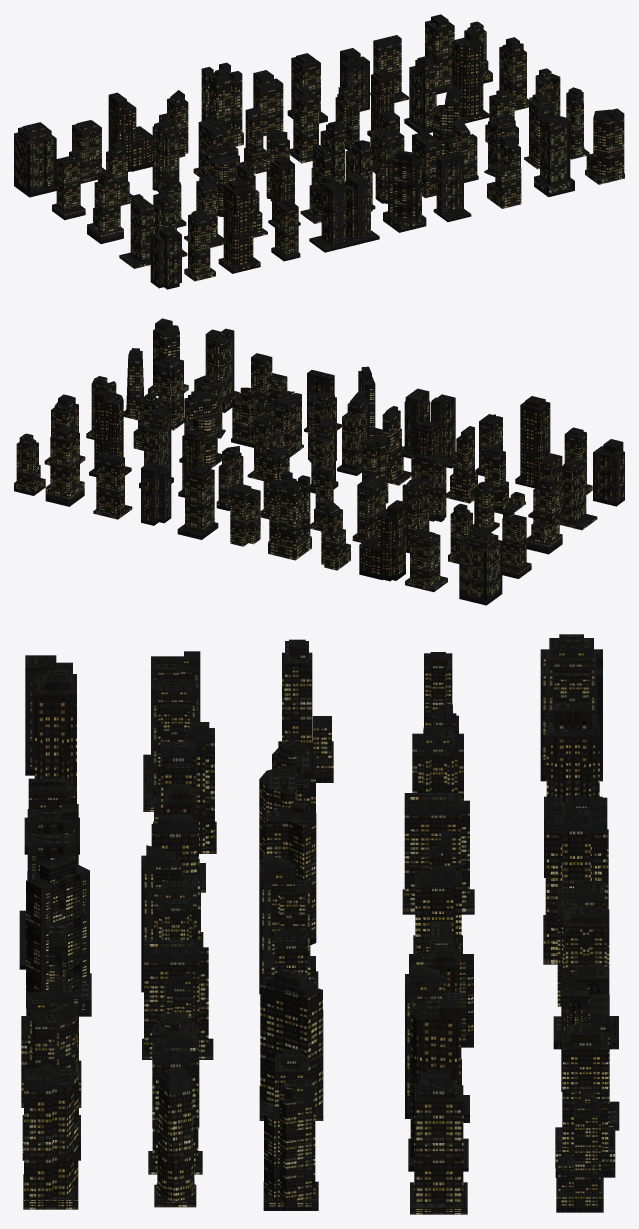
The model's file is Skyscrapers_night.FBX.
3 views of the same model, one above another, from view 1: azimuth 30°, elevation 25°; view 2: azimuth 150°, elevation 25°; view 3: azimuth 270°, elevation 25° (orthographic). The views are drawn at different scales.
Visible parts, largest first — view 1: 21, 19, 27, 22, 39, 25, 50, 1, 26, 40, 49, 30 (+41 smaller); view 2: 39, 27, 40, 21, 1, 19, 29, 28, 30, 50, 17, 16 (+41 smaller); view 3: 26, 22, 51, 36, 38, 39, 44, 29, 1, 27, 12, 40 (+35 smaller).
Boxes of the visible parts, x1,y1,x2,y2 form: 21: (309,173,379,252); 19: (218,178,260,273); 27: (14,122,56,197); 22: (383,150,426,232); 39: (201,62,243,147); 25: (534,115,574,197); 50: (452,28,489,123); 1: (119,192,187,268); 26: (585,108,624,184); 40: (108,92,152,171); 49: (404,56,436,133); 30: (87,171,123,243); 39: (268,471,311,560); 27: (459,529,502,605); 40: (359,500,405,581); 21: (403,388,455,468); 1: (528,453,597,530); 19: (515,396,550,488); 29: (45,425,84,506); 28: (177,465,218,539); 30: (526,477,562,554); 50: (89,389,131,476); 17: (593,439,624,506); 16: (93,451,132,519); 26: (23,1063,78,1209); 22: (26,855,91,1016); 51: (410,1069,467,1214); 36: (259,968,323,1120); 38: (263,1079,318,1210); 39: (543,797,607,964); 44: (402,793,474,914); 29: (555,1025,615,1177); 1: (143,651,200,811); 27: (540,634,602,781); 12: (154,1066,196,1207); 40: (544,702,602,877).
Size of the model in its own units: 783 by 432 by 132.
Materials: 11 (11 with a texture image).
